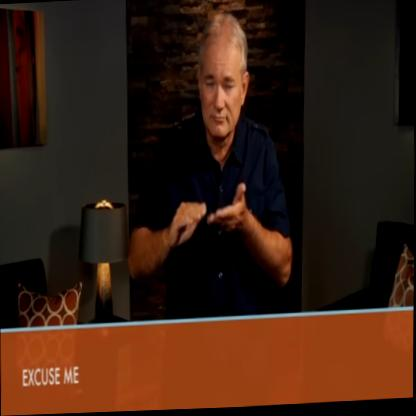ExcuseMe: (123, 8, 296, 322)
